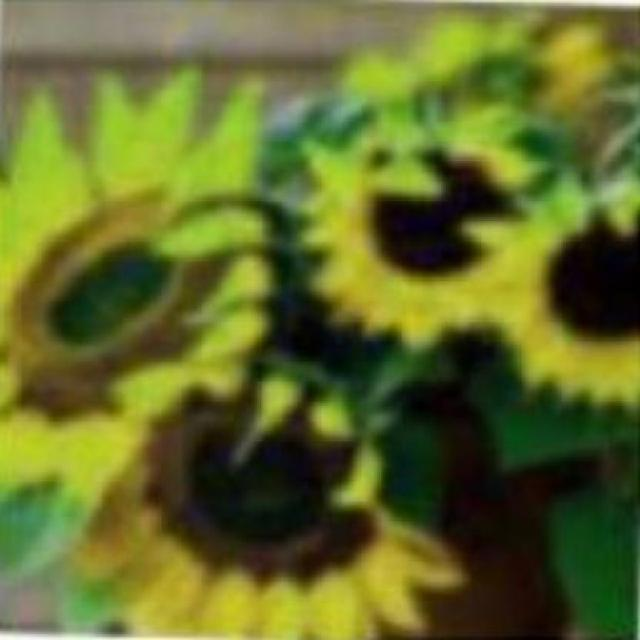sunflower: (0, 74, 279, 501), (70, 347, 472, 640), (294, 103, 548, 354), (480, 185, 640, 411)
